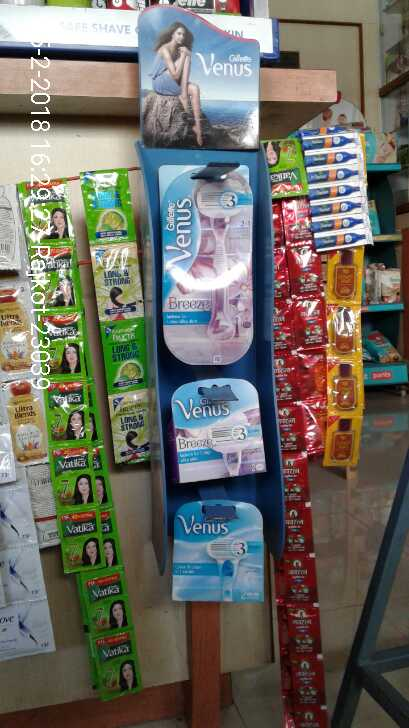venus: (166, 153, 262, 367), (165, 496, 274, 604), (172, 380, 269, 486)
